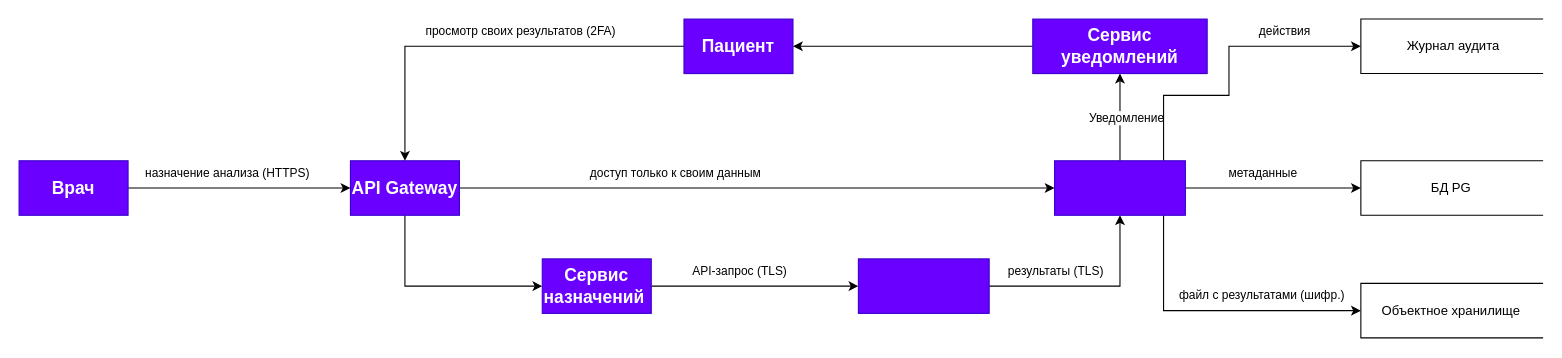
The diagram is 1562 pixels wide and 358 high, and some of its shapes have lost their labels. Here are the shapes that lost their labels. From the top down, the box of each, then its label:
(1053, 160, 1185, 215): Сервис результатов
(857, 258, 989, 313): Лаборатория (внешняя)
